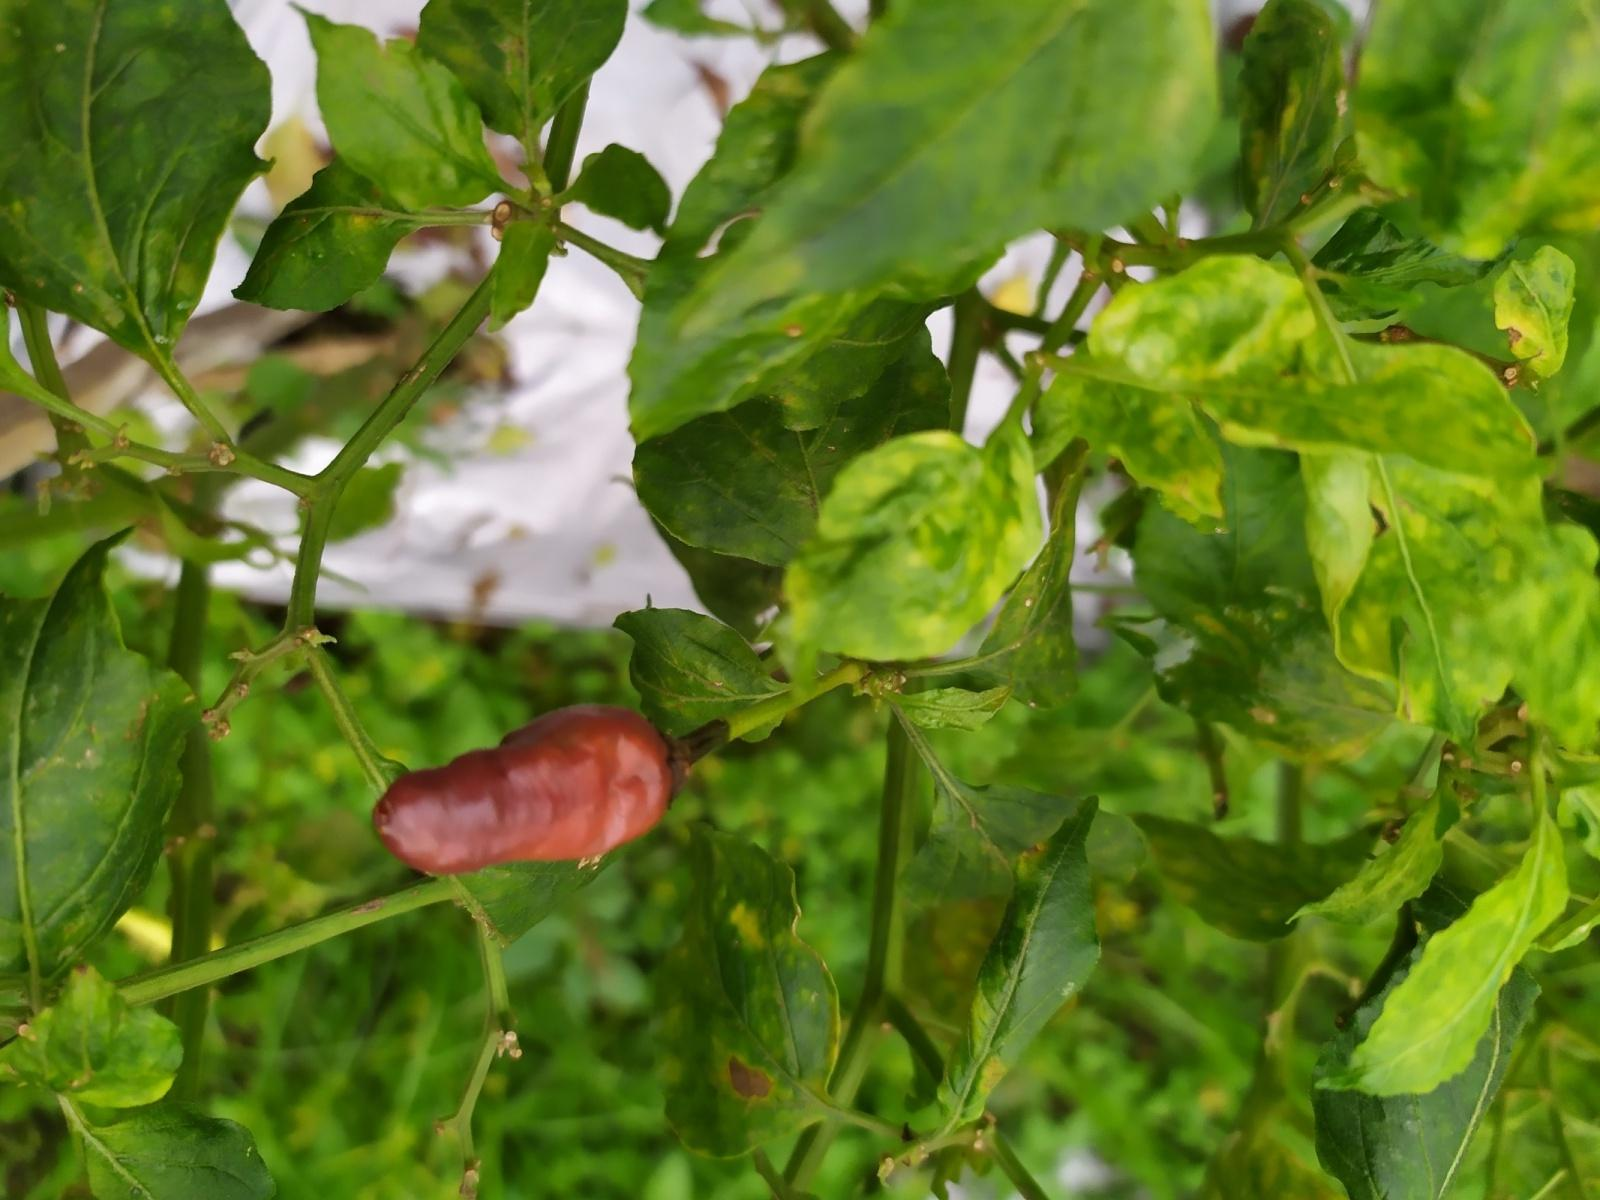lalat_buah: (370, 701, 678, 875)
